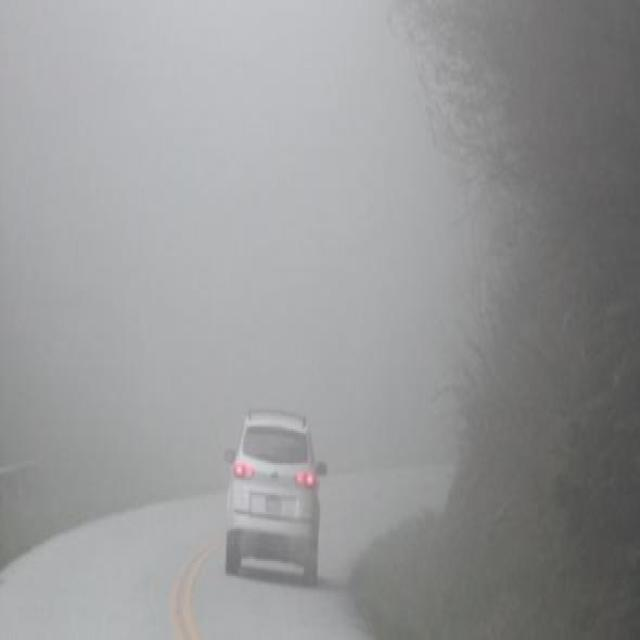Car: (220, 409, 329, 588)
